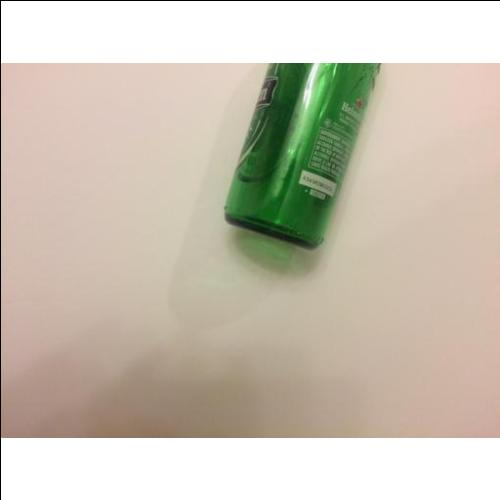metal: (228, 64, 384, 241)
